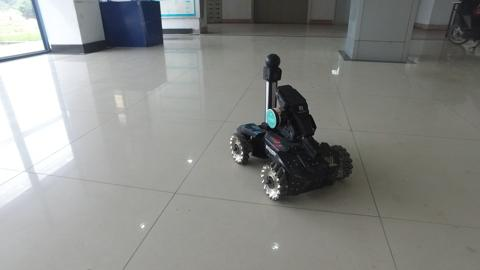chariot: (228, 52, 354, 201)
